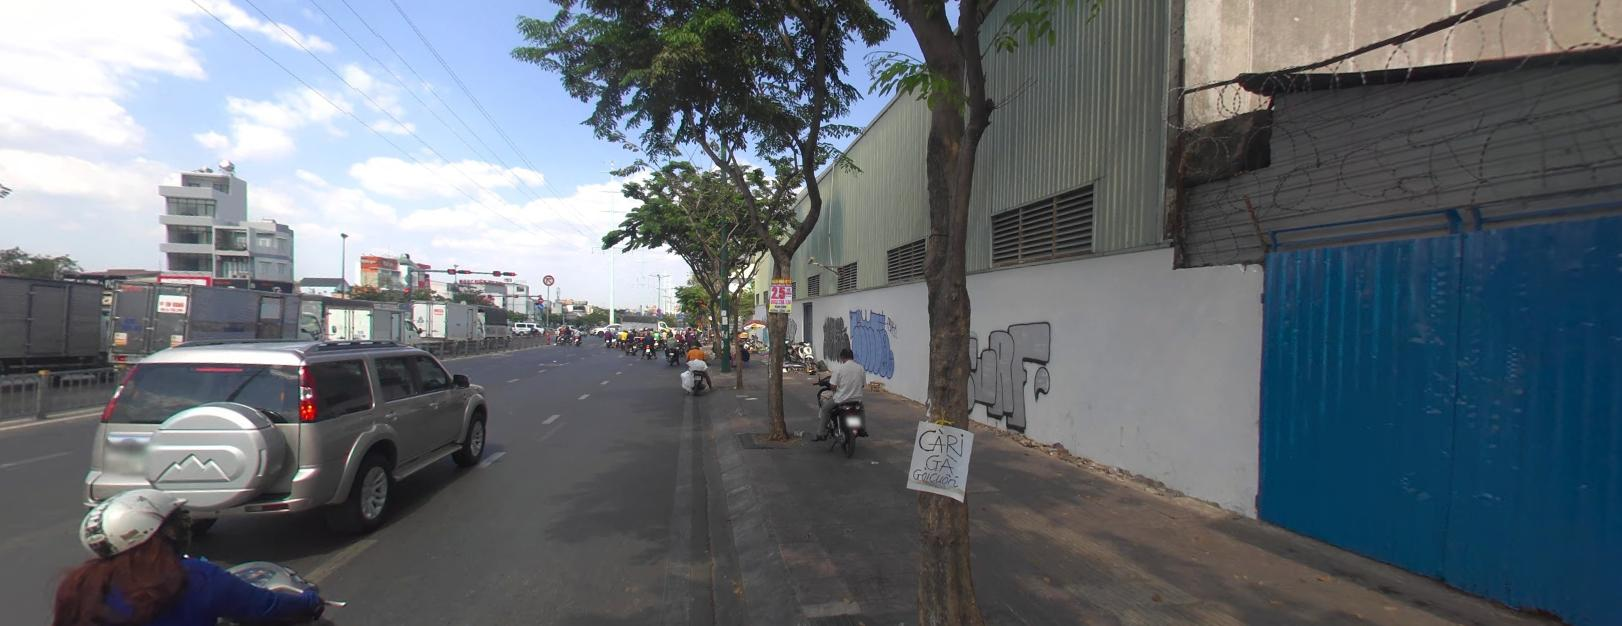Cam dung va do: (656, 306, 660, 311)
Cam nguoc chieu: (537, 296, 542, 301)
Cam re: (542, 273, 554, 284)
Hieu lenh: (537, 302, 542, 308)
